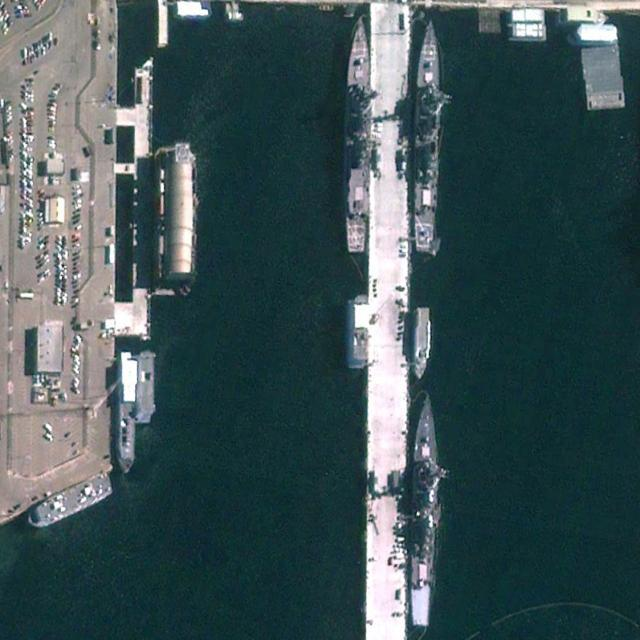Destroyer: (406, 389, 441, 629), (412, 17, 443, 252), (345, 16, 370, 254)
Other Ship: (24, 469, 115, 535), (116, 350, 136, 473)
